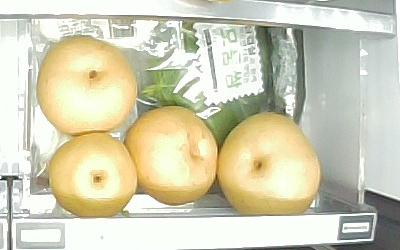pear: (218, 110, 321, 216), (36, 34, 137, 135), (125, 106, 218, 206), (47, 133, 137, 217)
